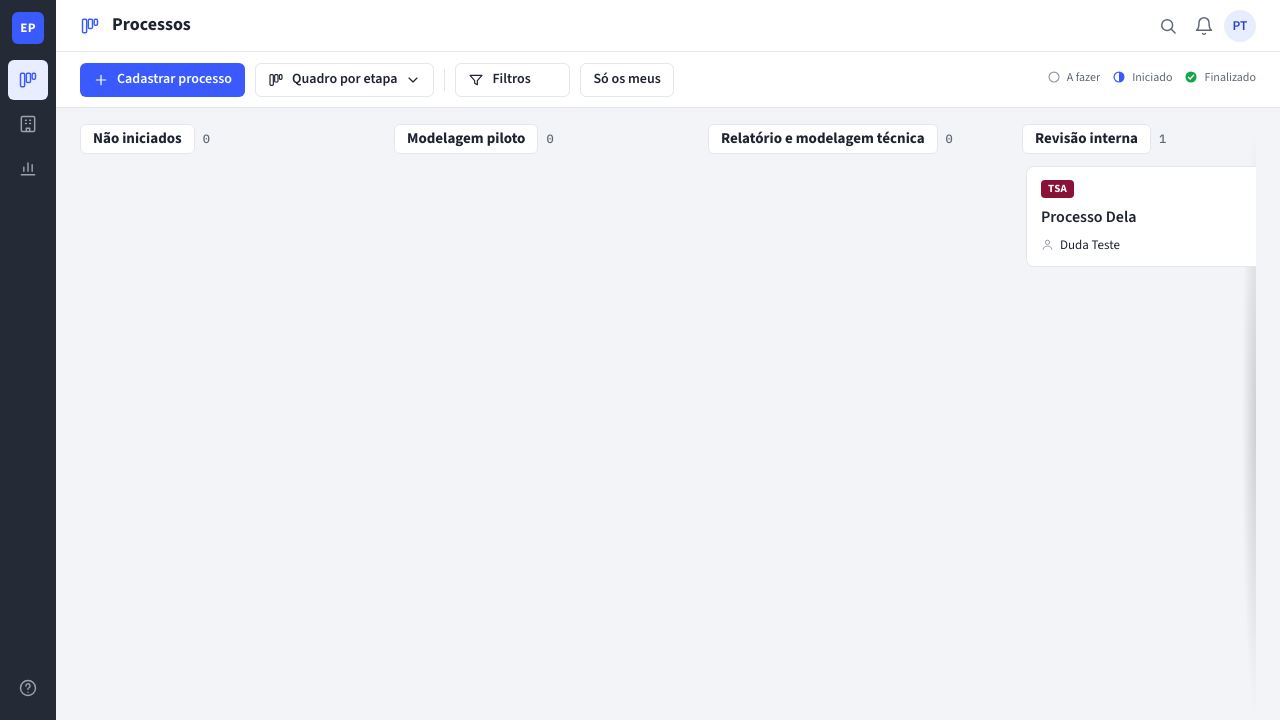
sem nenhum processo meu e sem outros filtros: a mensagem própria, e Ver todos desliga o Só os meus
Click the button "Só os meus": (627, 80) [580,62,674,96]
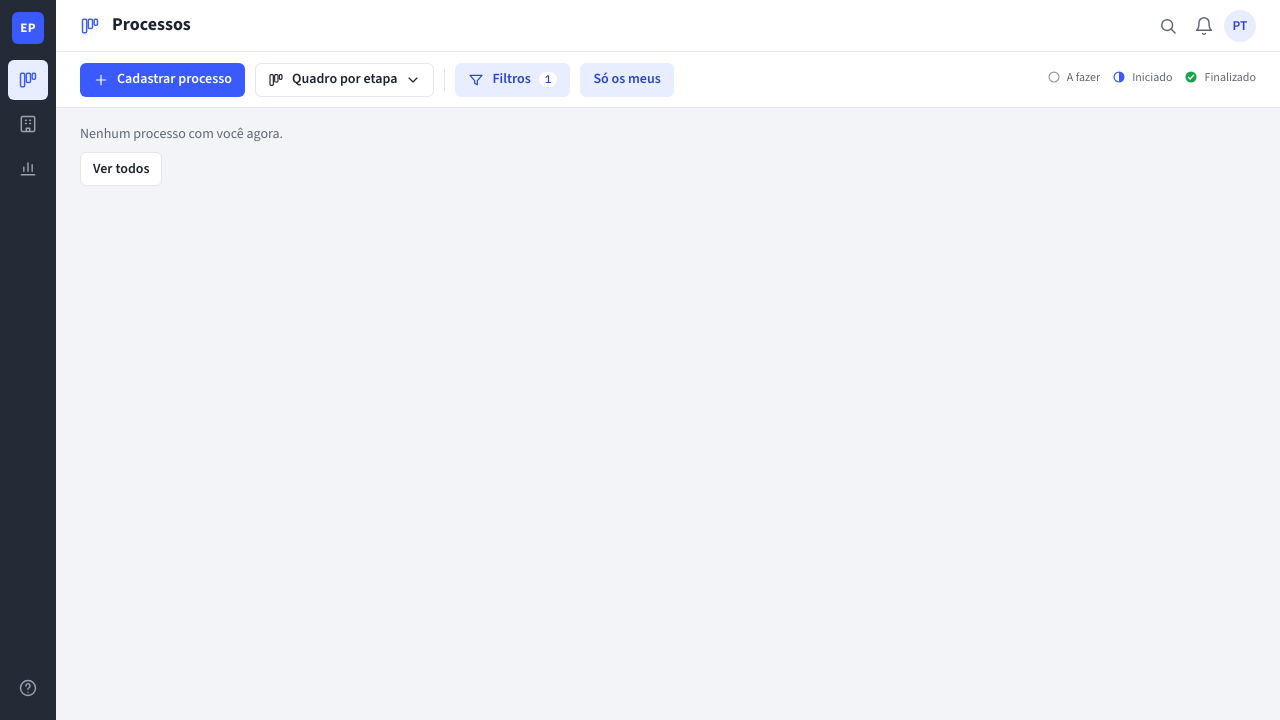
Expected: the text "Nenhum processo com você agora." is shown, [80,124,283,144]
Click the button "Ver todos": (121, 169) [80,152,162,186]
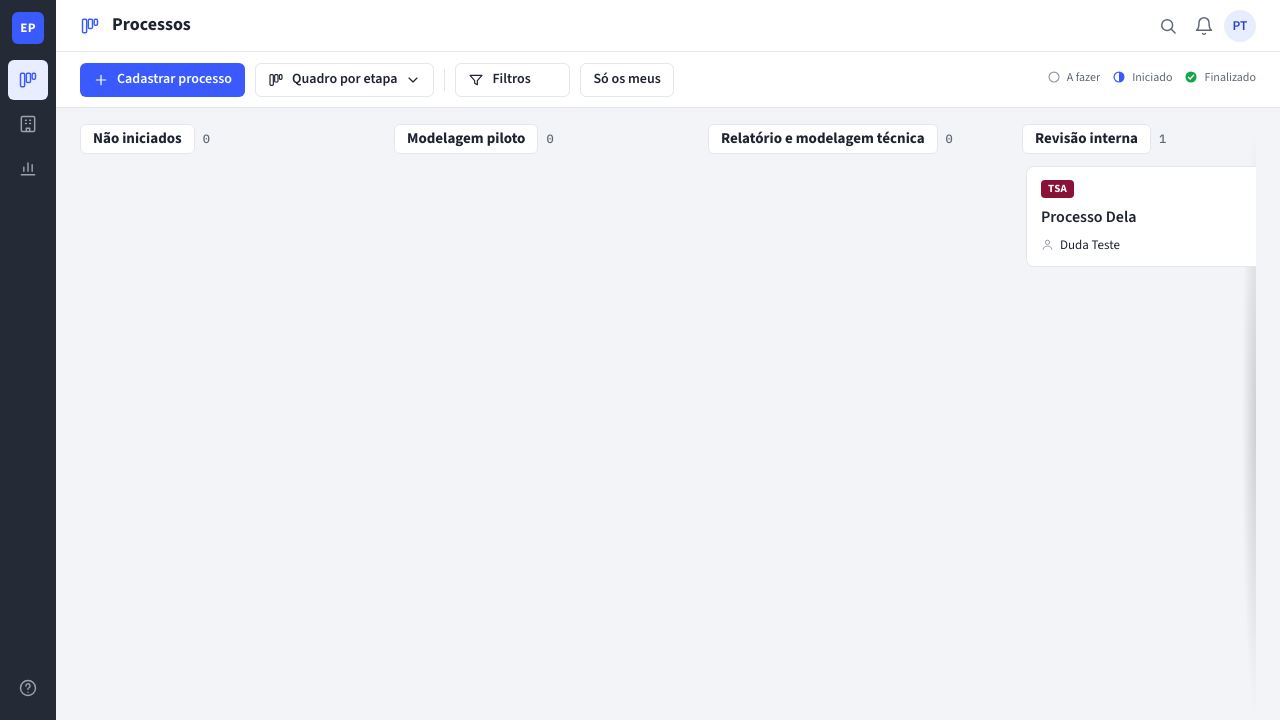
Expected: the text "Nenhum processo com você agora." is gone
